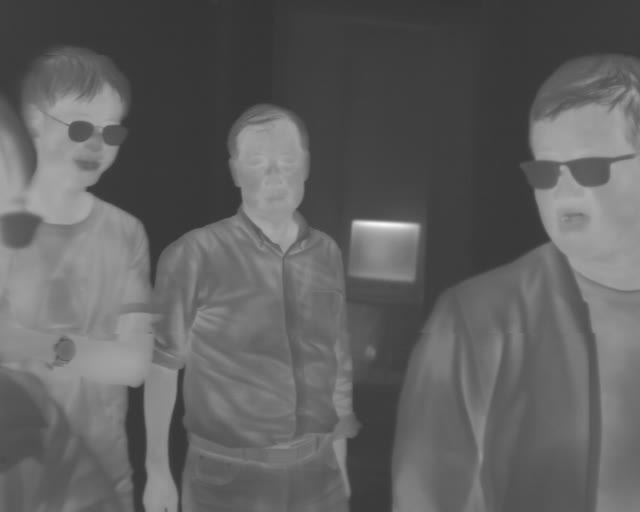face: (525, 51, 640, 264), (25, 43, 130, 189), (226, 102, 313, 220)
